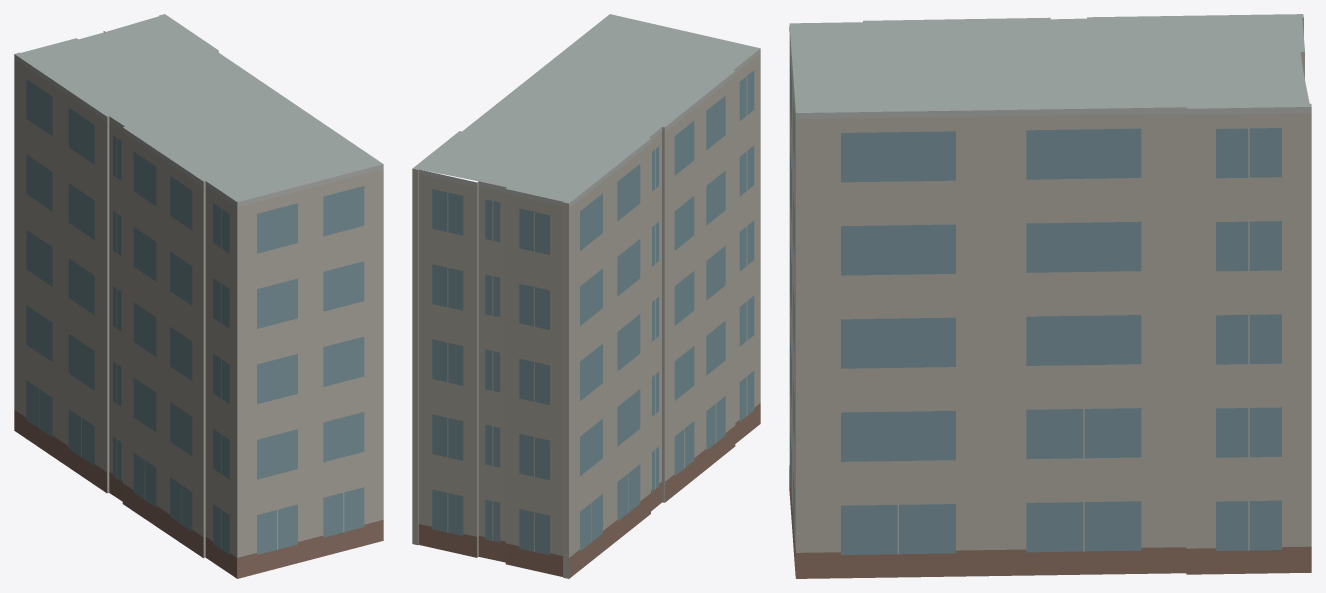
The model's file is survey-upis-33001172.glb.
The picture shows the model from 3 angles, left to right: view 1: azimuth 30°, elevation 25°; view 2: azimuth 150°, elevation 25°; view 3: azimuth 270°, elevation 25°; orthographic projection. The views are drawn at different scales.
Visible parts, largest first — view 1: survey-upis-33001172.tmp; view 2: survey-upis-33001172.tmp; view 3: survey-upis-33001172.tmp.
Boxes of the visible parts, x1,y1,x2,y2 form: survey-upis-33001172.tmp: (14,14,383,578); survey-upis-33001172.tmp: (412,14,760,578); survey-upis-33001172.tmp: (789,14,1311,578).
Bounding box in the file's own units: 8.42 × 18.44 × 18.74.
